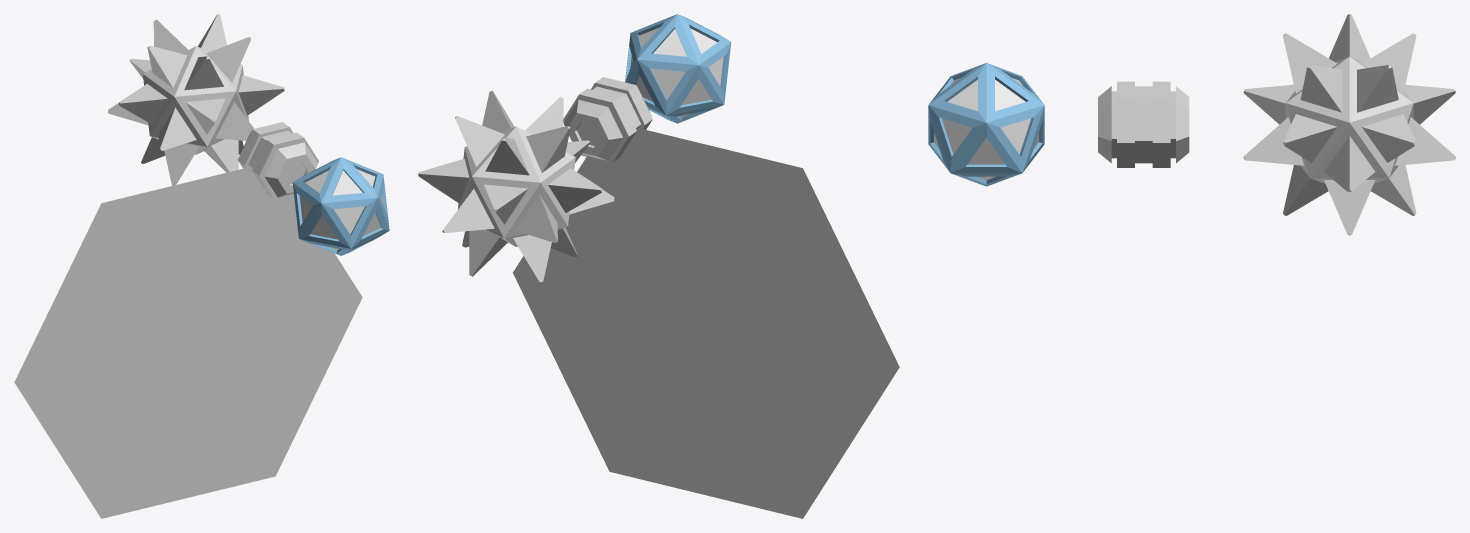
File: EllipticatorMines.fbx
3 views of the same model, side by side, from view 1: azimuth 30°, elevation 25°; view 2: azimuth 150°, elevation 25°; view 3: azimuth 270°, elevation 25° (orthographic). The views are drawn at different scales.
Visible parts, largest first — view 1: Shield, Mine, Icosphere, Connector; view 2: Shield, Mine, Icosphere, Connector; view 3: Mine, Icosphere, Connector.
Boxes of the visible parts, x1,y1,x2,y2 form: Shield: (14,167,362,518); Mine: (108,14,284,185); Icosphere: (292,157,389,255); Connector: (238,122,318,199); Shield: (513,128,899,518); Mine: (418,90,614,282); Icosphere: (625,14,731,123); Connector: (563,77,652,162); Mine: (1243,14,1455,235); Icosphere: (928,63,1044,186); Connector: (1098,81,1189,167).
Bounding box in the file's own units: 50 × 52.35 × 52.3.
